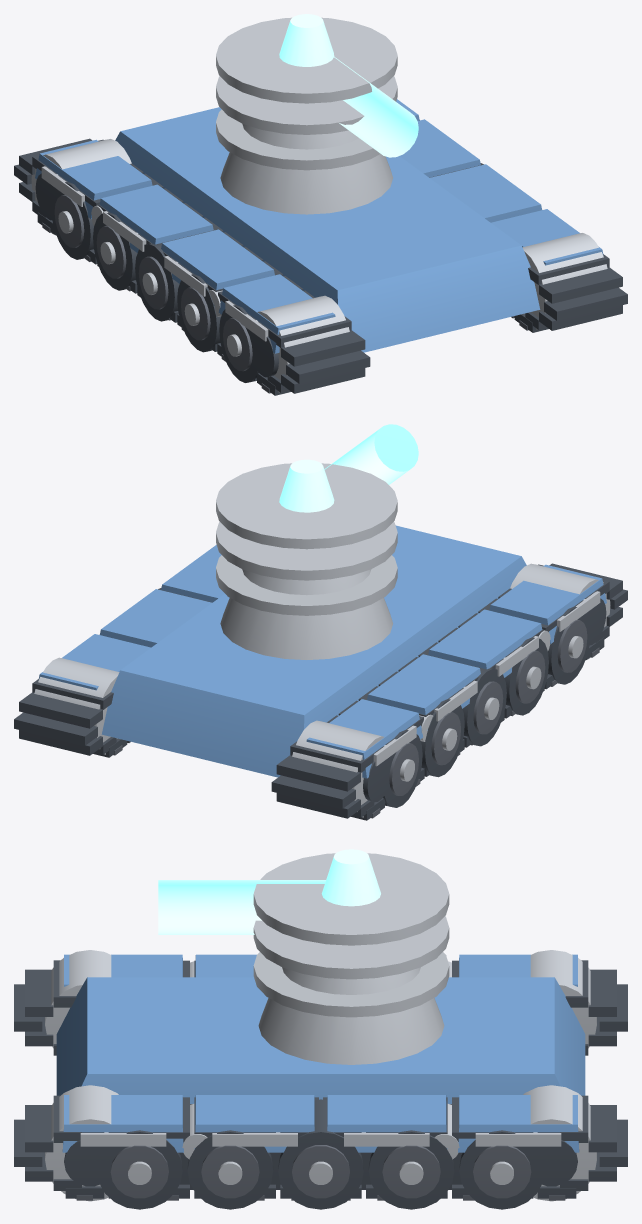
File: sref.glb
3 renders of one model, top to bottom at view 1: azimuth 30°, elevation 25°; view 2: azimuth 150°, elevation 25°; view 3: azimuth 270°, elevation 25°, orthographic. The views are drawn at different scales.
Visible parts, largest first — view 1: Hull, Turret; view 2: Hull, Turret; view 3: Hull, Turret.
Part boxes in pixels (bbox=[...]): Hull: bbox=[14, 99, 627, 395]; Turret: bbox=[216, 14, 418, 214]; Hull: bbox=[14, 525, 627, 820]; Turret: bbox=[216, 424, 418, 659]; Hull: bbox=[14, 950, 627, 1209]; Turret: bbox=[158, 849, 449, 1064].
Size of the model in its own units: 2.03 by 1.38 by 2.9.
